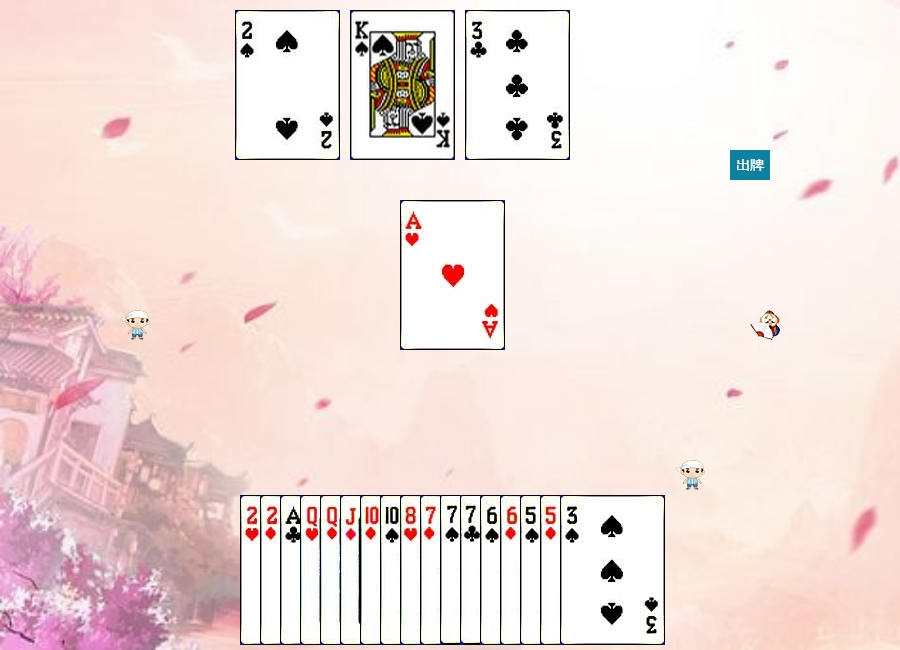10~1: (360, 495, 465, 645)
10~4: (380, 495, 485, 645)
11~1: (340, 495, 445, 645)
12~1: (320, 495, 425, 645)
12~3: (300, 495, 405, 645)
13~4: (350, 10, 455, 160)
14~2: (280, 495, 385, 645)
14~3: (400, 200, 505, 350)
15~1: (260, 495, 365, 645)
15~3: (240, 495, 345, 645)
15~4: (235, 10, 340, 160)
3~2: (465, 10, 570, 160)
3~4: (560, 495, 665, 645)
5~1: (540, 495, 645, 645)
5~4: (520, 495, 625, 645)
6~1: (500, 495, 605, 645)
6~4: (480, 495, 585, 645)
7~1: (420, 495, 525, 645)
7~2: (460, 495, 565, 645)
7~4: (440, 495, 545, 645)
8~3: (400, 495, 505, 645)
